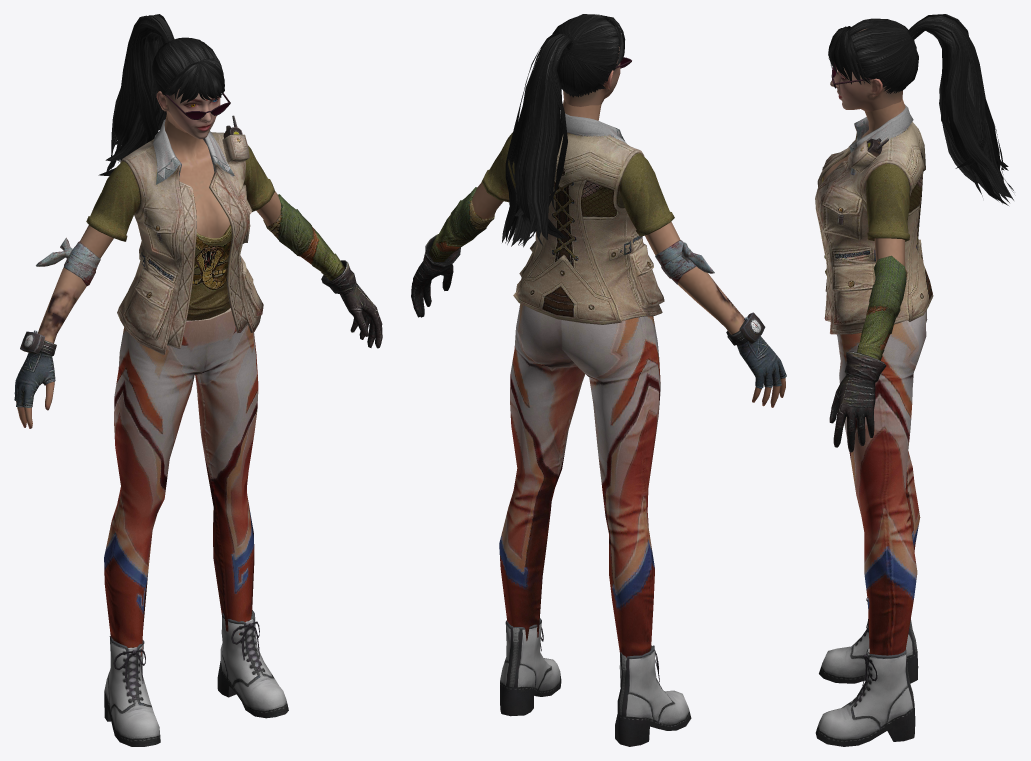
The model's file is glasspony.fbx.
3 views of the same model, side by side, from view 1: azimuth 30°, elevation 25°; view 2: azimuth 150°, elevation 25°; view 3: azimuth 270°, elevation 25° (orthographic). The views are drawn at different scales.
Visible parts, largest first — view 1: Object_5, Object_4, Object_7, Object_3, Object_2; view 2: Object_4, Object_5, Object_7, Object_3, Object_2; view 3: Object_5, Object_4, Object_7, Object_3, Object_2.
Part boxes in pixels (box(x1,y1,x2,y2)): Object_5: box(14, 115, 382, 407); Object_4: box(104, 308, 258, 656); Object_7: box(98, 14, 224, 175); Object_3: box(104, 610, 288, 746); Object_2: box(16, 86, 280, 428); Object_4: box(499, 304, 660, 657); Object_5: box(411, 110, 786, 388); Object_7: box(502, 14, 625, 247); Object_3: box(500, 618, 691, 746); Object_2: box(472, 46, 785, 407); Object_5: box(815, 104, 933, 452); Object_4: box(836, 310, 927, 655); Object_7: box(828, 14, 1013, 205); Object_3: box(815, 597, 918, 746); Object_2: box(823, 28, 905, 267).
Size of the model in its own units: 953 by 1718 by 456.
7 materials, 7 textured.
